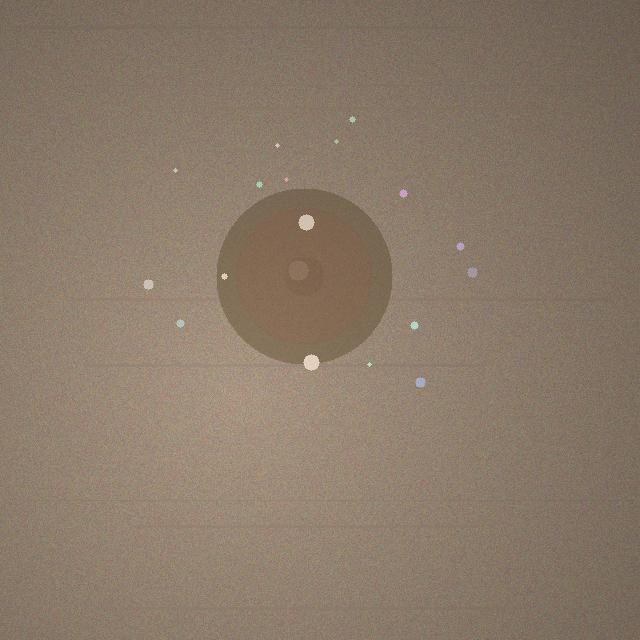overburn: (216, 188, 392, 364)
